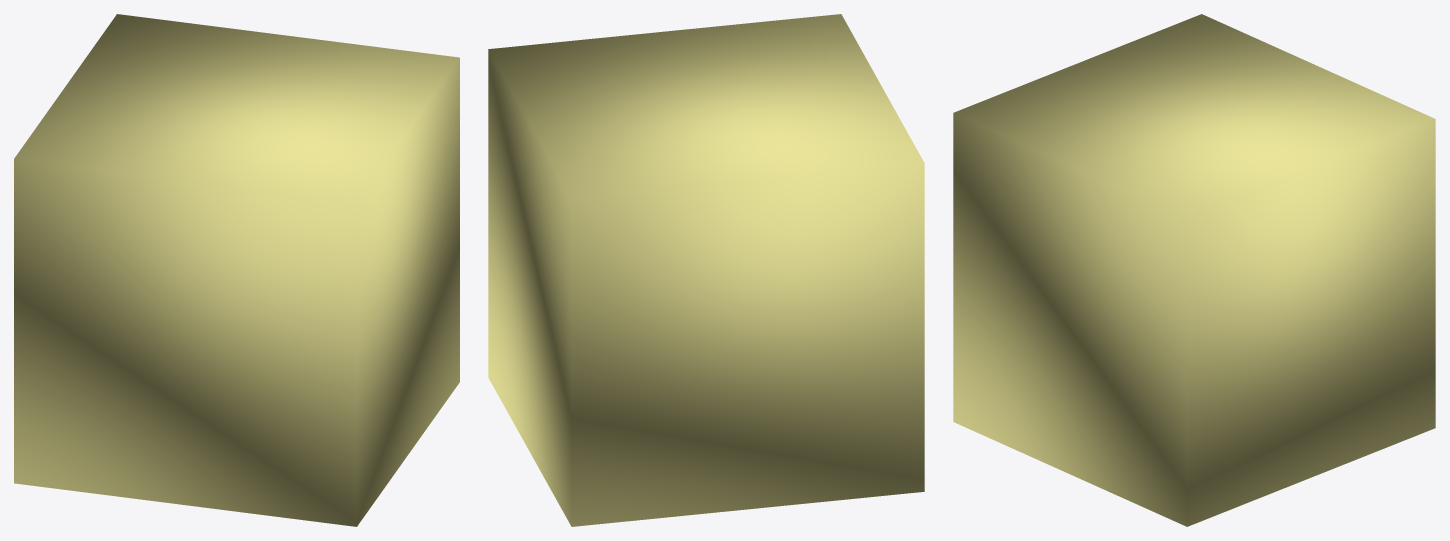
The model's file is garlicchopped4.fbx.
3 views of the same model, side by side, from view 1: azimuth 30°, elevation 25°; view 2: azimuth 150°, elevation 25°; view 3: azimuth 270°, elevation 25° (orthographic). The views are drawn at different scales.
Parts seen in each view (by area): view 1: Cube.031; view 2: Cube.031; view 3: Cube.031.
Part boxes in pixels (left/top/right/bottom): Cube.031: left=14, top=14, right=459, bottom=526; Cube.031: left=488, top=14, right=924, bottom=526; Cube.031: left=953, top=14, right=1435, bottom=526.
Bounding box in the file's own units: 2.36 × 1.67 × 2.36.
